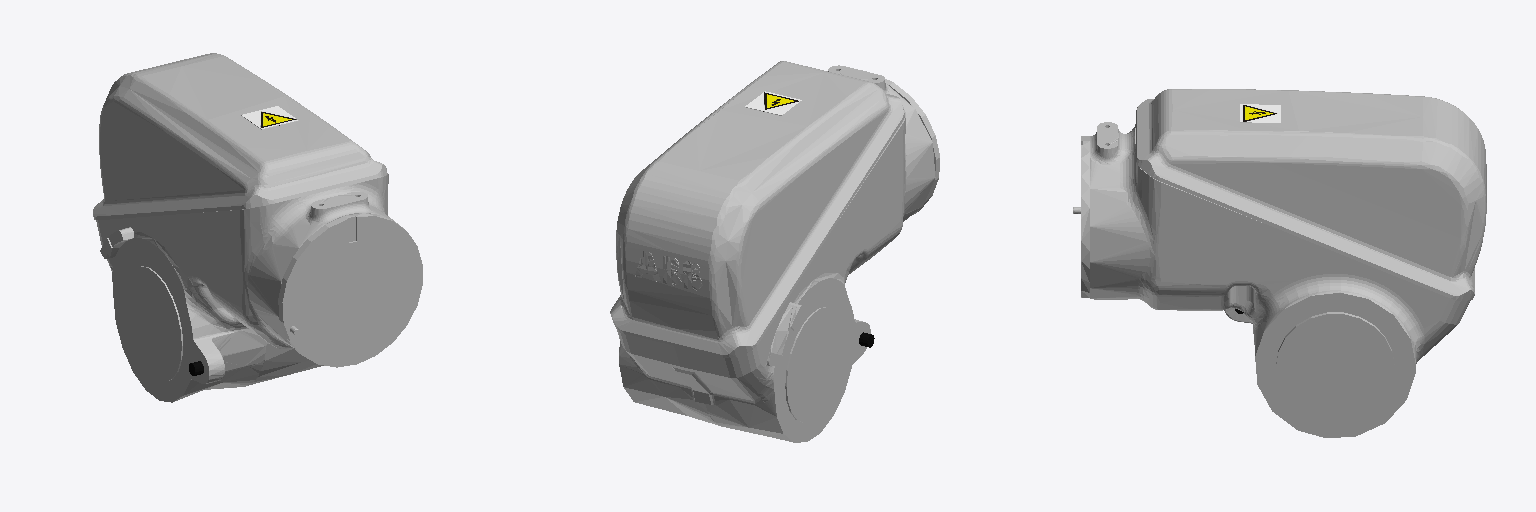
The picture shows the model from 3 angles: view 1: azimuth 30°, elevation 25°; view 2: azimuth 150°, elevation 25°; view 3: azimuth 270°, elevation 25°; orthographic projection.
Visible parts, largest first — view 1: nr34, Box510; view 2: nr34, Box510; view 3: nr34, Box510.
Part boxes in pixels (x1,y1,x2,y2): nr34: (93, 53, 422, 402); Box510: (241, 106, 298, 129); nr34: (610, 61, 939, 442); Box510: (745, 91, 801, 115); nr34: (1073, 89, 1486, 437); Box510: (1240, 104, 1280, 122).
Bounding box in the file's own units: 116 × 188 × 244.
Materials: 3 (1 with a texture image).